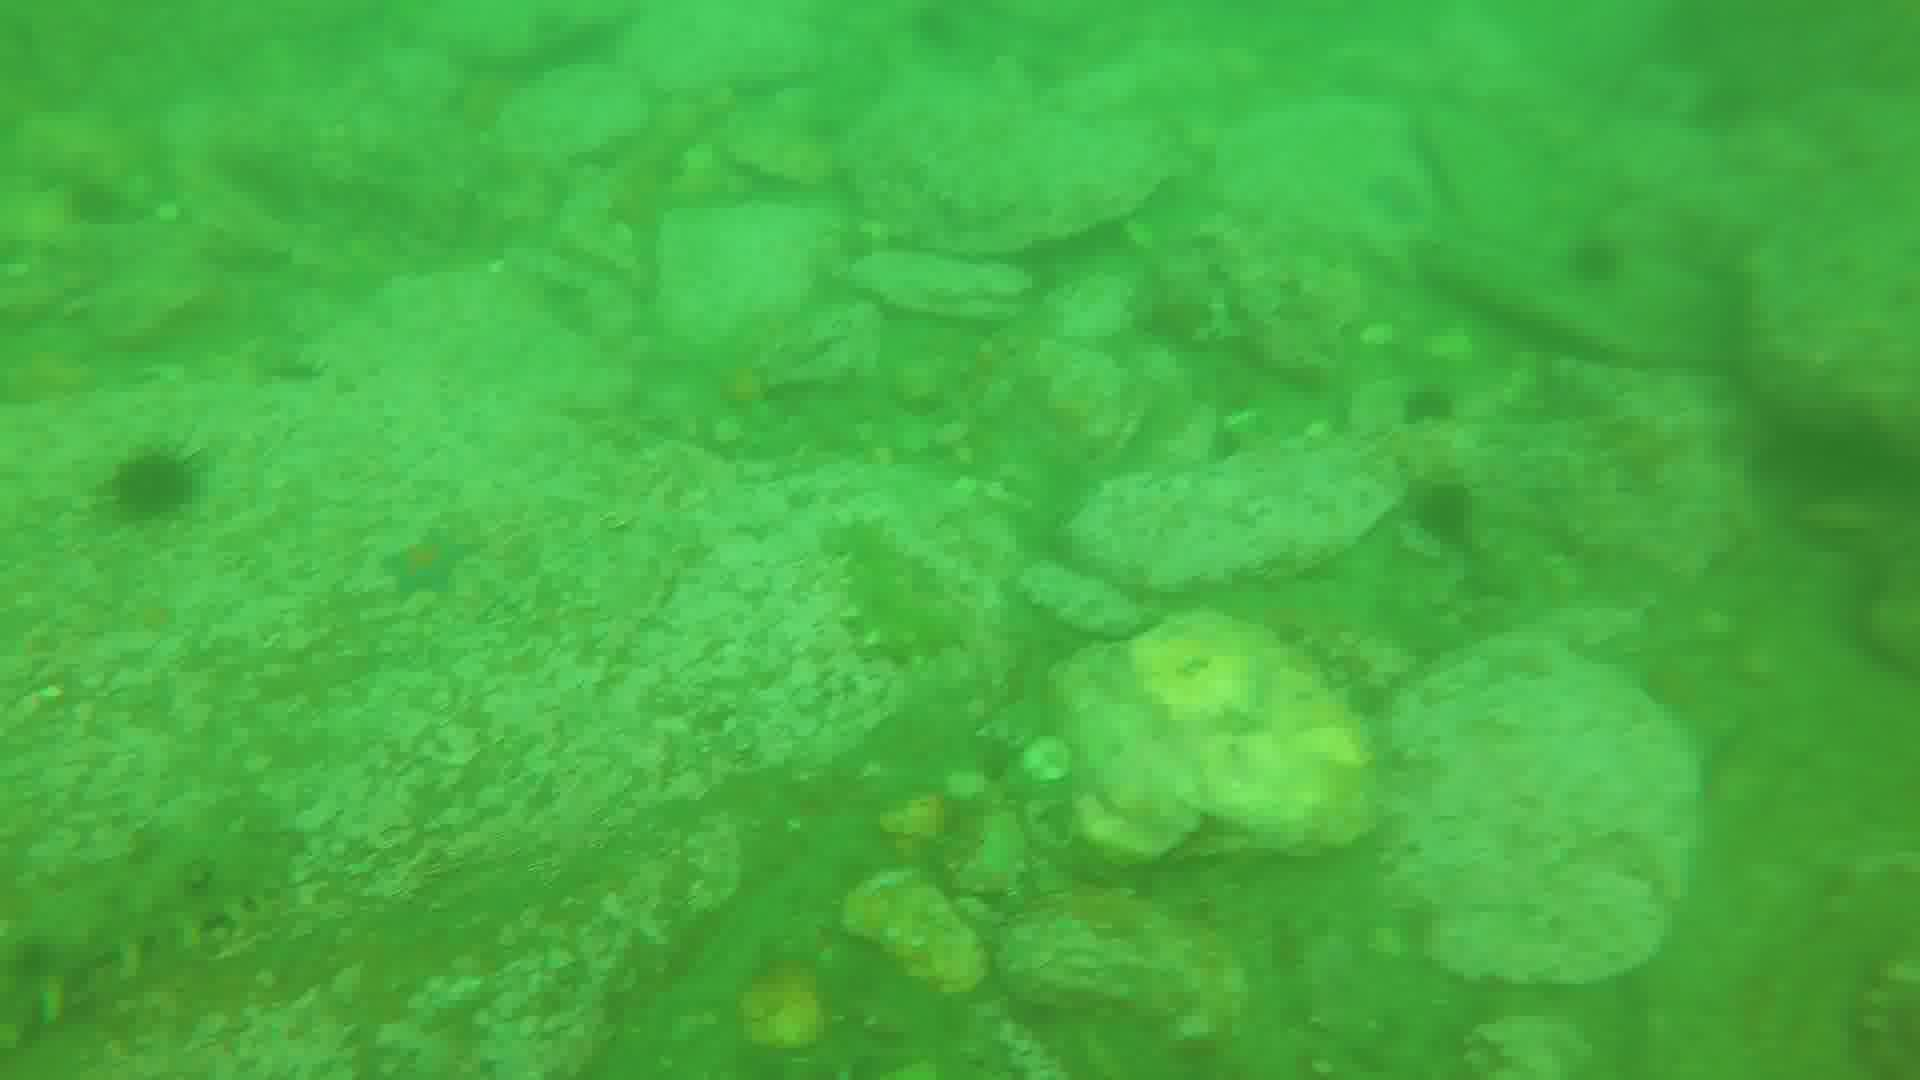echinus: (105, 452, 203, 524), (1415, 475, 1480, 545), (1563, 239, 1626, 285), (1400, 386, 1460, 429)
starfish: (381, 525, 484, 607)
